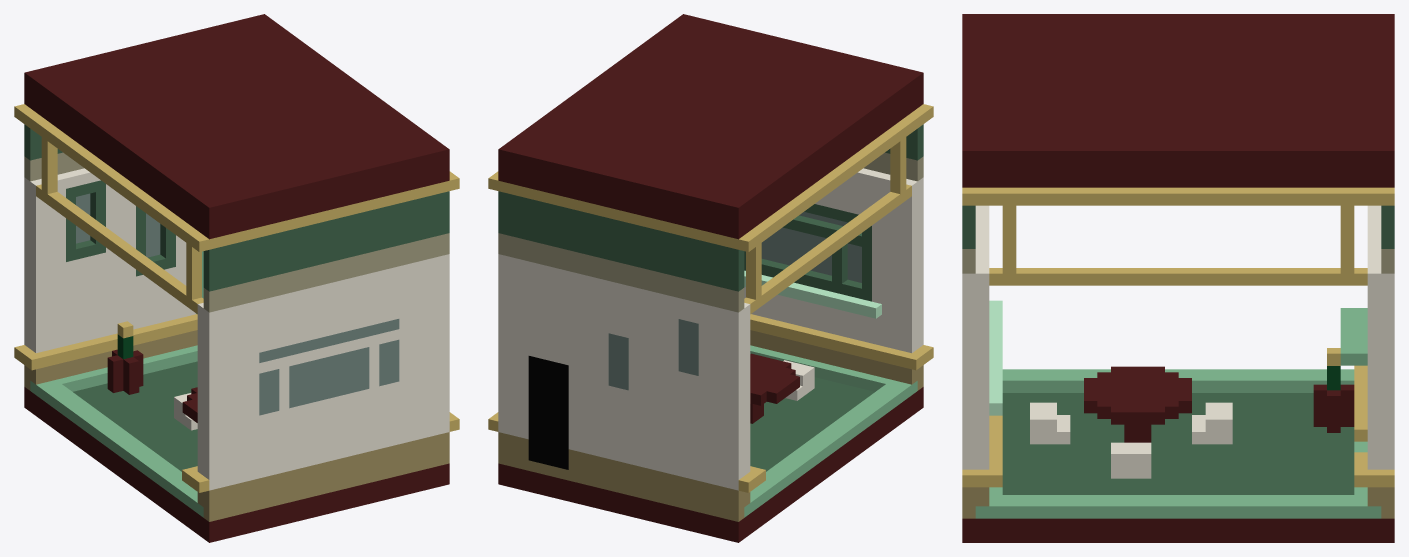
File: tile_3_middle_90.obj
The picture shows the model from 3 angles, left to right: view 1: azimuth 30°, elevation 25°; view 2: azimuth 150°, elevation 25°; view 3: azimuth 270°, elevation 25°; orthographic projection. The views are drawn at different scales.
Bounding box in the file's own units: 2.6 × 3.2 × 3.2.
Materials: 1 (1 with a texture image).
